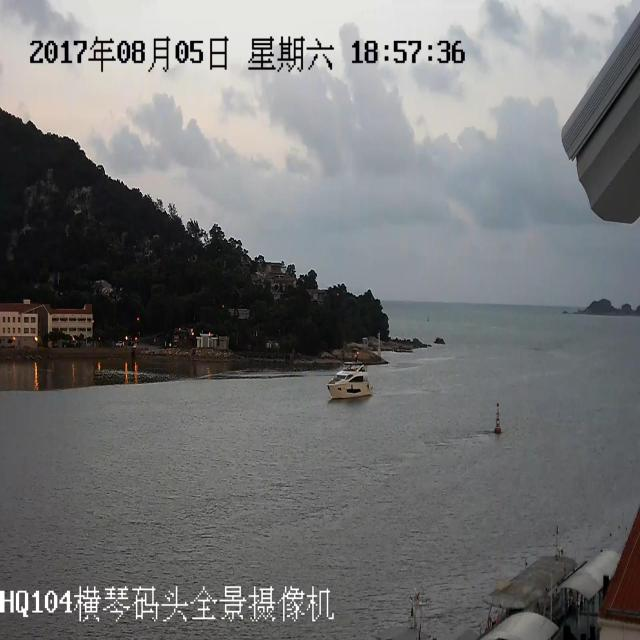buoy: (492, 399, 511, 437)
passenger ship: (322, 348, 372, 398)
reef: (576, 279, 639, 321)
